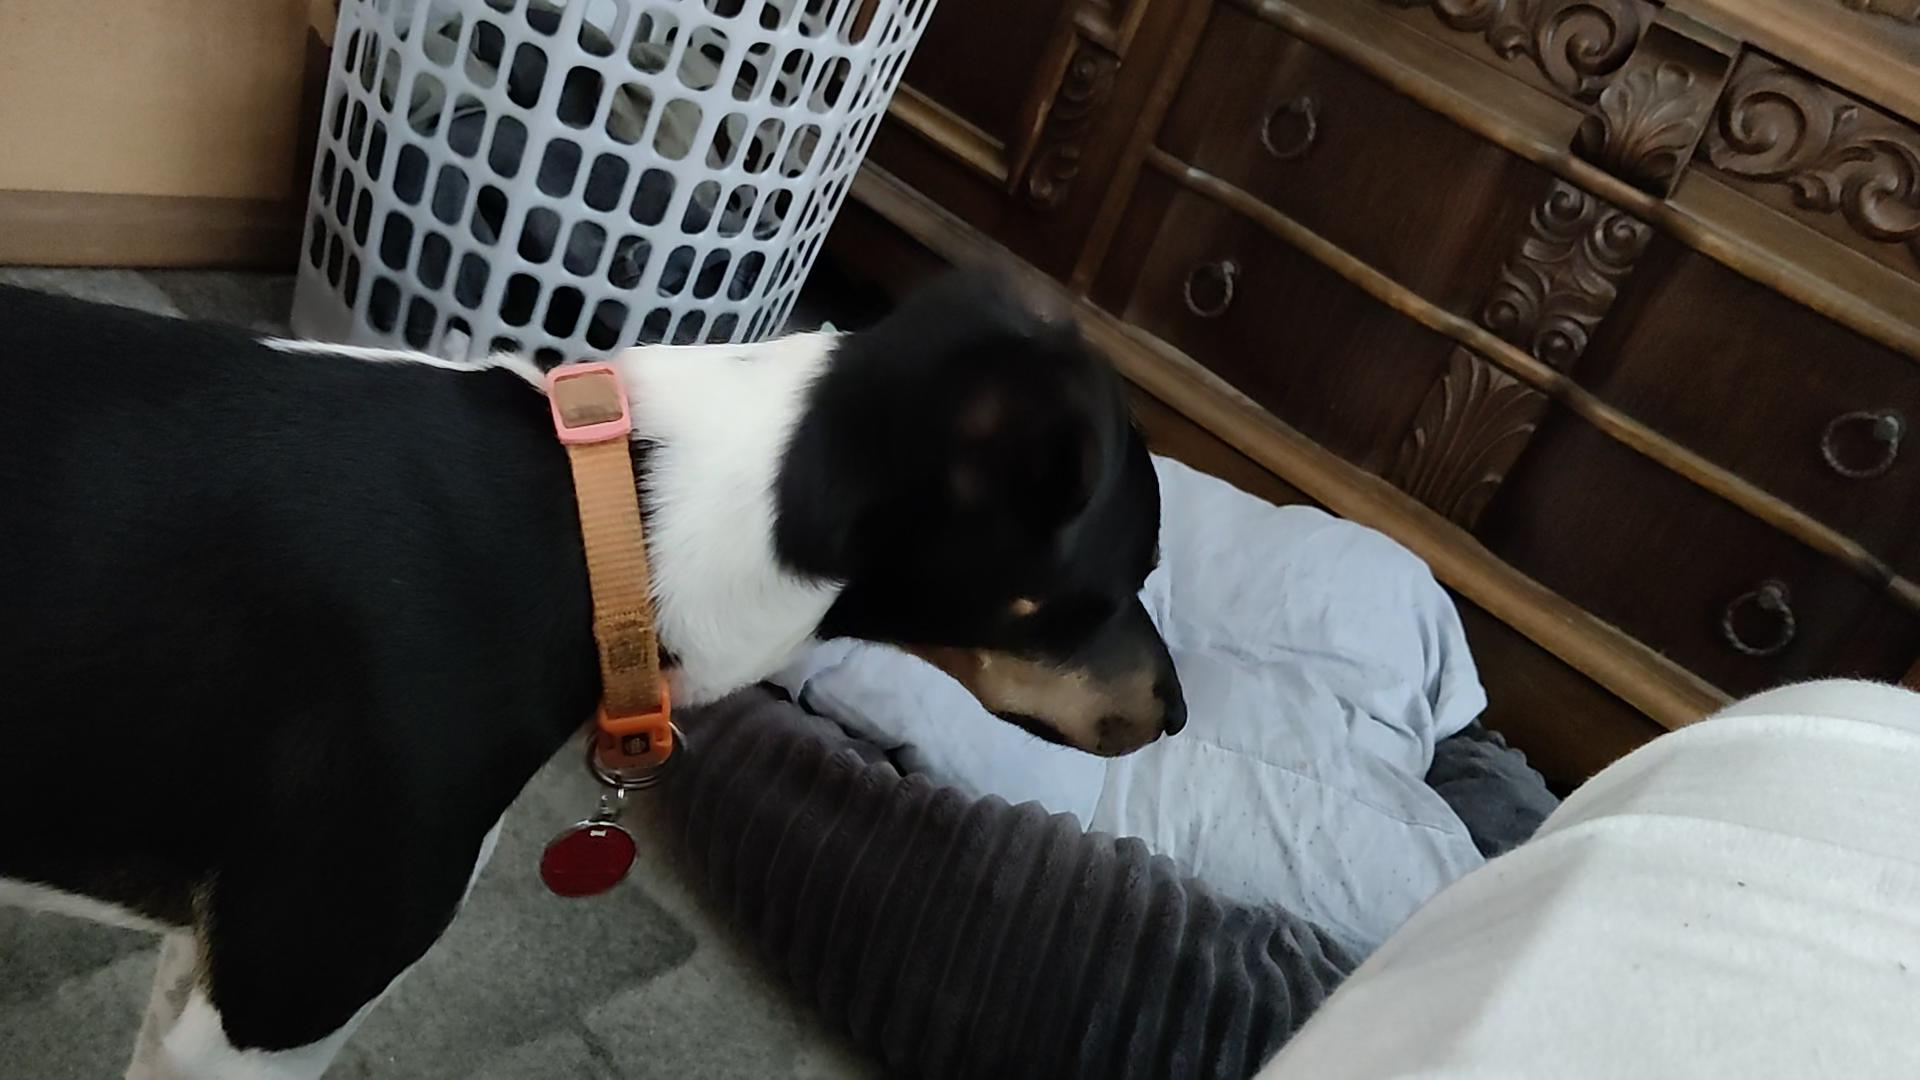Dog: (0, 262, 1193, 1079)
